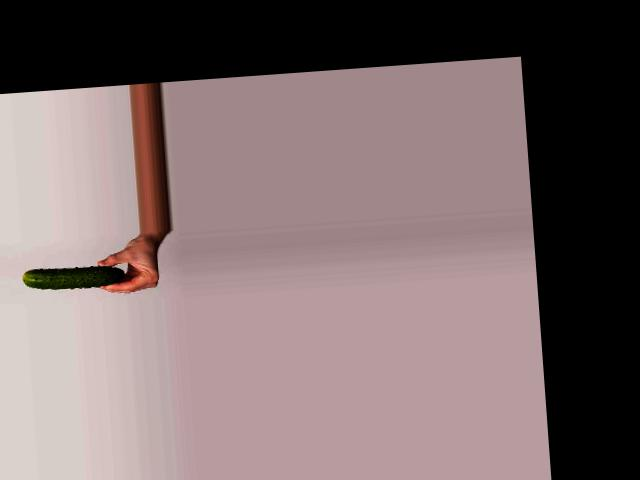cucumber: (23, 264, 125, 292)
